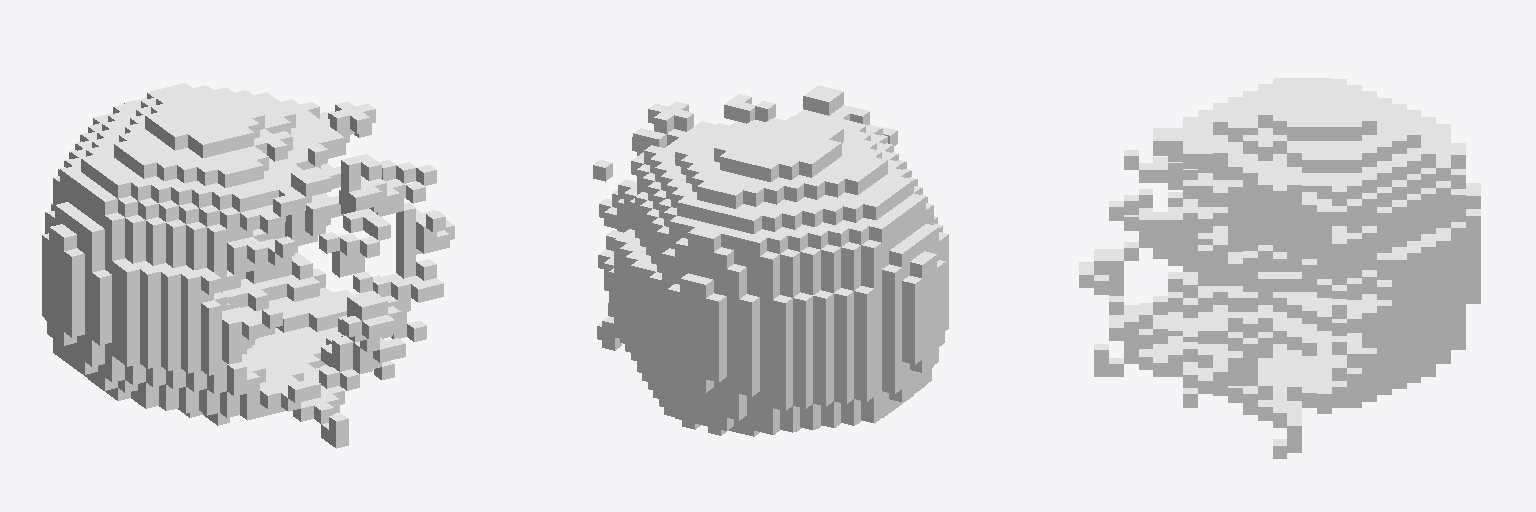
File: PookaPopQuarter.obj
3 views of the same model, side by side, from view 1: azimuth 30°, elevation 25°; view 2: azimuth 150°, elevation 25°; view 3: azimuth 270°, elevation 25° (orthographic).
Parts seen in each view (by area): view 1: object 1; view 2: object 1; view 3: object 1.
Boxes of the visible parts, <box> form: object 1: <box>42,83,454,448</box>; object 1: <box>593,85,948,436</box>; object 1: <box>1079,78,1480,458</box>.
Size of the model in its own units: 2.8 by 2 by 2.7.